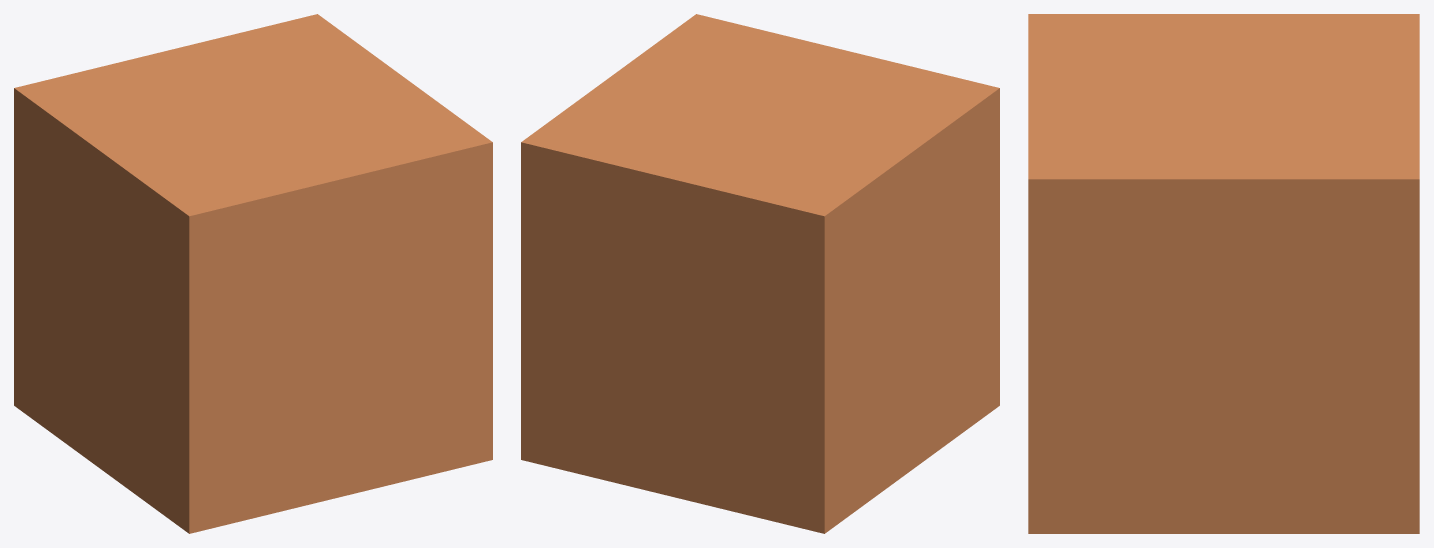
The model's file is tileset.glb.
The picture shows the model from 3 angles, left to right: view 1: azimuth 30°, elevation 25°; view 2: azimuth 150°, elevation 25°; view 3: azimuth 270°, elevation 25°; orthographic projection. The views are drawn at different scales.
Visible parts, largest first — view 1: blockDirtRamp, blockDirt, blockDirtHalf; view 2: blockDirt, blockDirtHalf, blockDirtRamp; view 3: blockDirt, blockDirtRamp, blockDirtHalf.
Part boxes in pixels (bbox=[...]): blockDirtRamp: bbox=[14, 142, 492, 533]; blockDirt: bbox=[14, 14, 492, 530]; blockDirtHalf: bbox=[14, 247, 492, 533]; blockDirt: bbox=[521, 14, 999, 533]; blockDirtHalf: bbox=[521, 248, 999, 533]; blockDirtRamp: bbox=[825, 89, 999, 533]; blockDirt: bbox=[1028, 14, 1419, 531]; blockDirtRamp: bbox=[1028, 179, 1418, 533]; blockDirtHalf: bbox=[1028, 356, 1419, 533].
Size of what is drawn, in the model's own units: 1 by 1 by 1.
